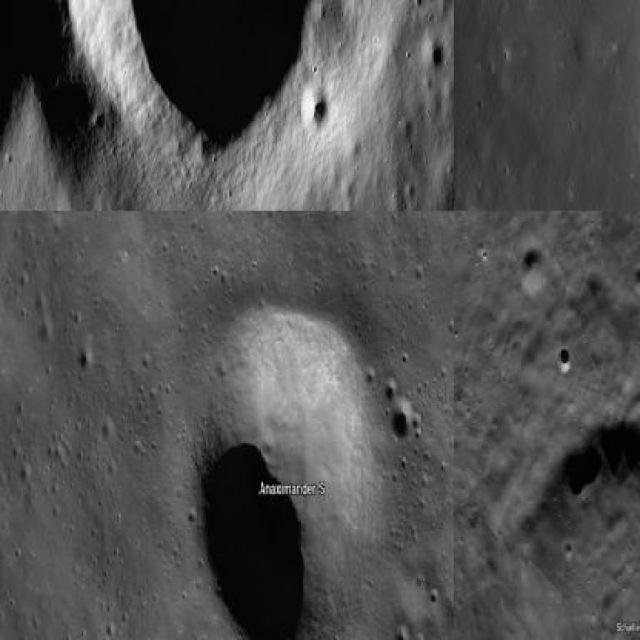crater: (192, 310, 388, 638), (55, 0, 337, 145), (509, 414, 638, 638), (518, 249, 550, 297), (389, 398, 414, 438), (557, 349, 572, 374)
